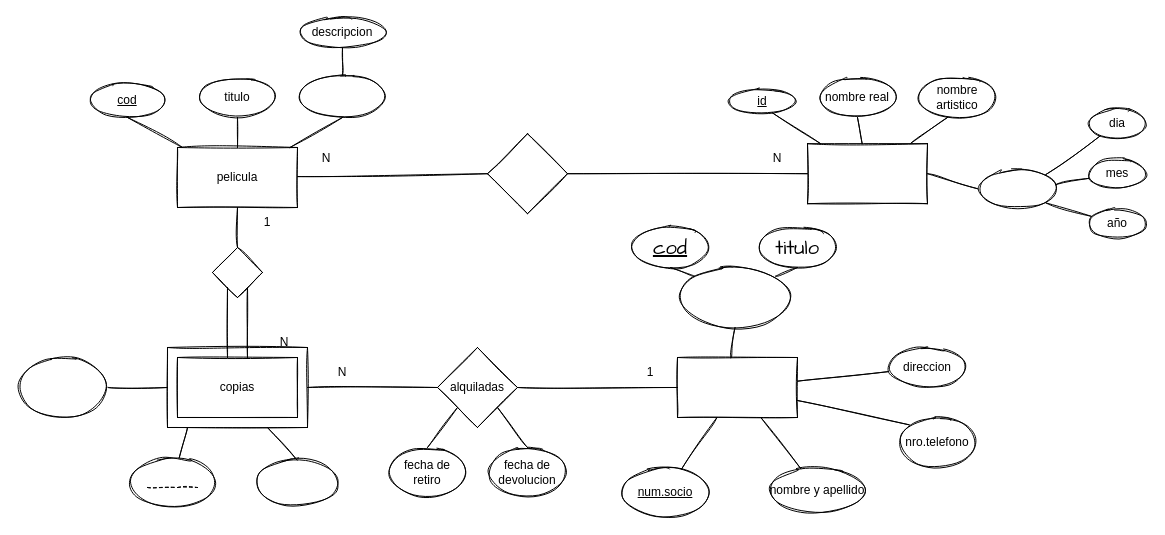
The diagram is 1165 pixels wide and 535 high, and some of its shapes have lost their labels. Each missing label, with the centre of its shape:
actor: pixel 867 173
categoria: pixel 342 96
fecha de nacimiento: pixel 1017 188
formato: pixel 297 482
numero: pixel 172 482
peliculas alquiladas anteriormente: pixel 734 297
socio: pixel 737 387
tiene: pixel 237 272
trabaja: pixel 527 173
usos de la copia: pixel 62 387
